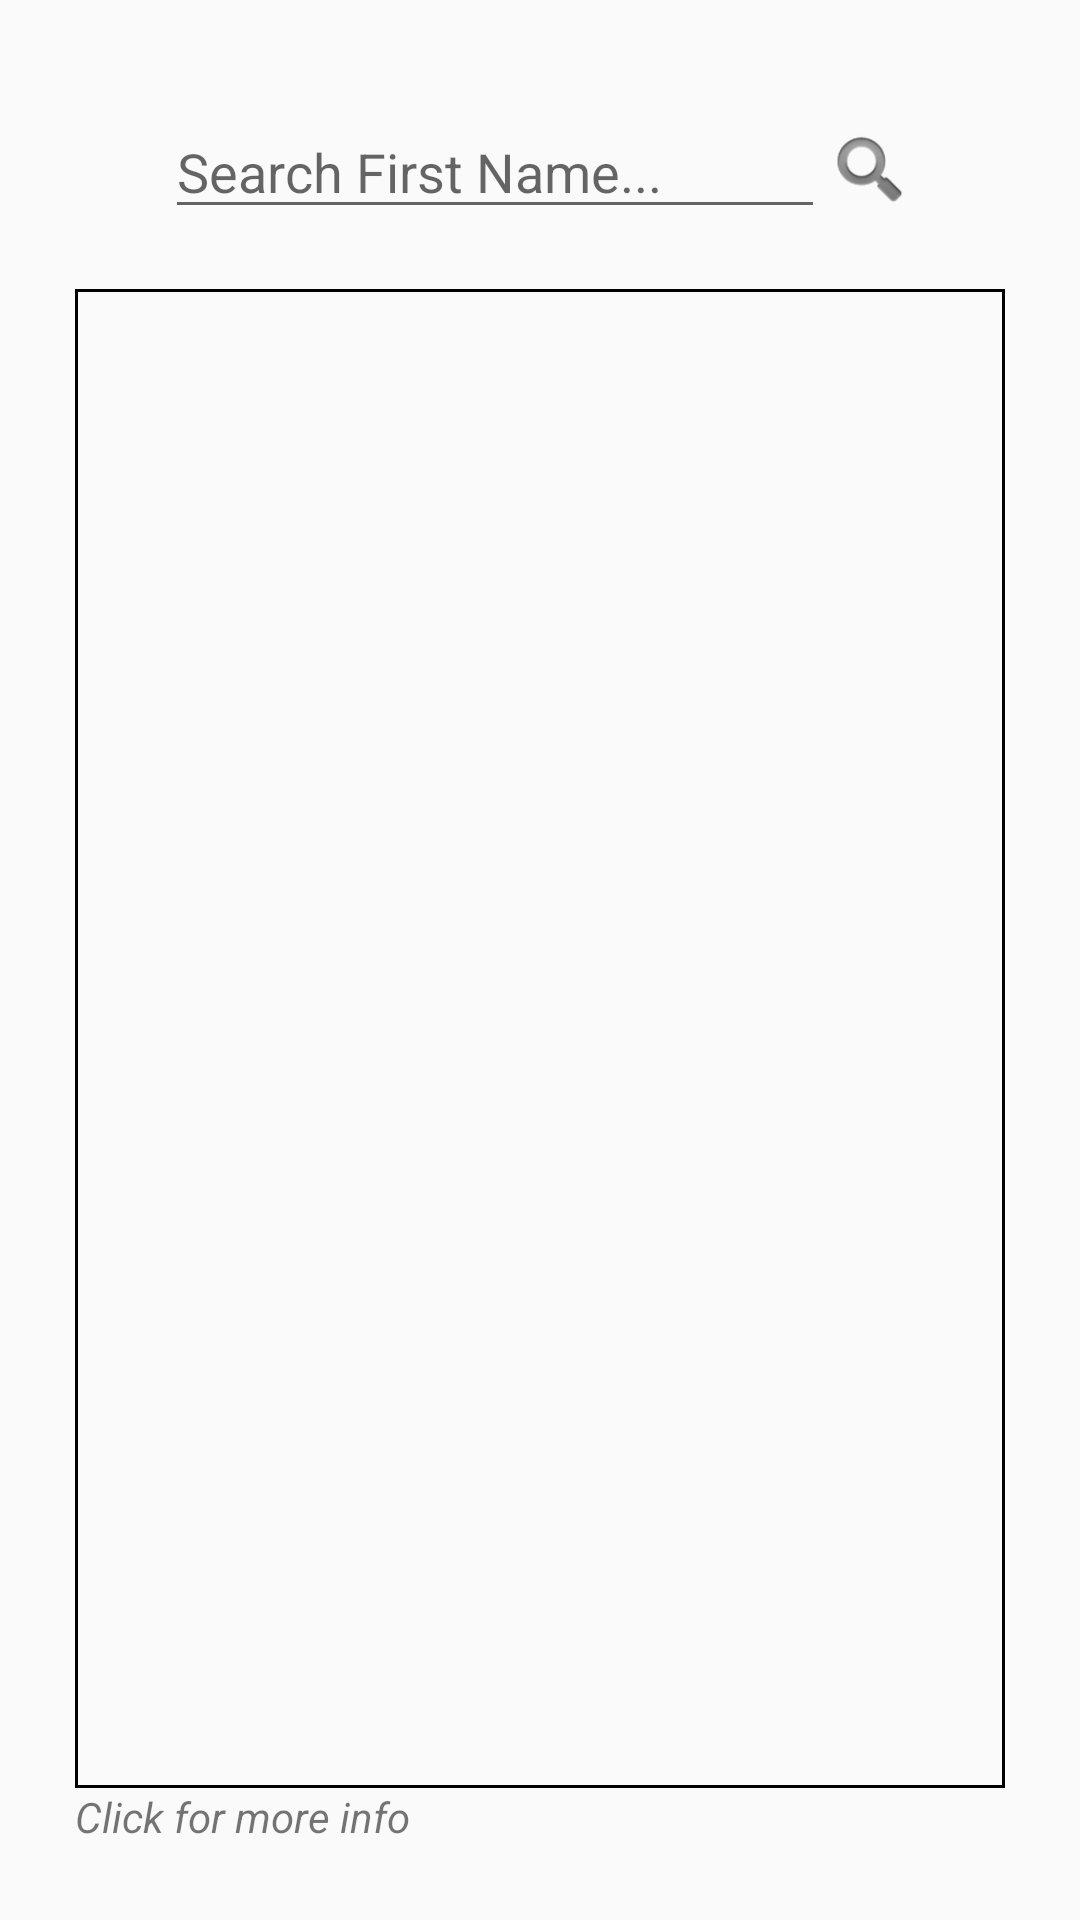

Icons on this 1080 x 1920 Android screen, each with the point to tap as [x,y]:
search category: [869,169]
